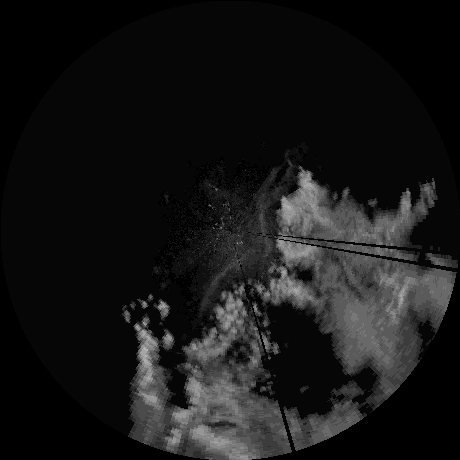frontgust: (198, 248, 252, 313), (257, 164, 289, 248)
